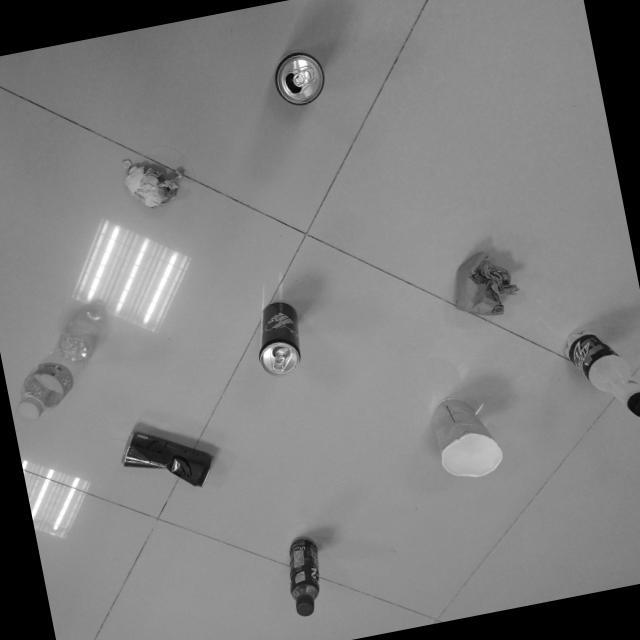recyclable waste: (111, 411, 228, 509), (0, 326, 110, 428), (555, 314, 640, 434), (422, 384, 514, 490), (442, 243, 528, 329), (114, 143, 195, 220), (246, 296, 314, 386), (276, 530, 335, 625), (266, 43, 334, 116)
